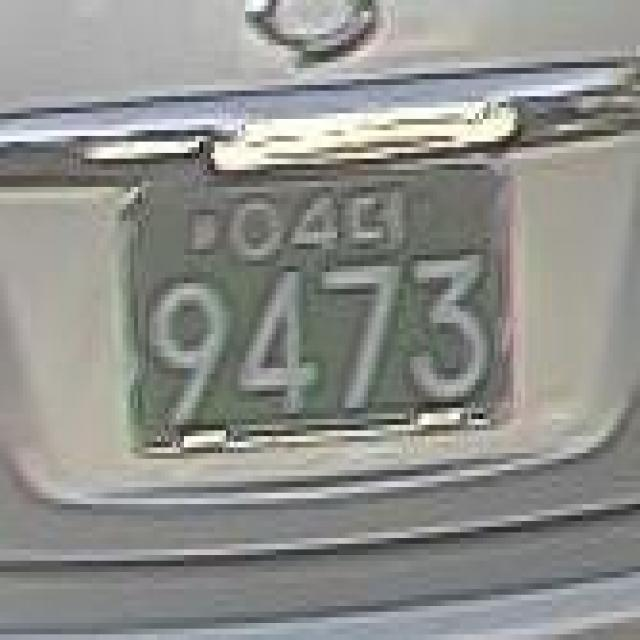illegal_plate: (108, 132, 542, 478)
